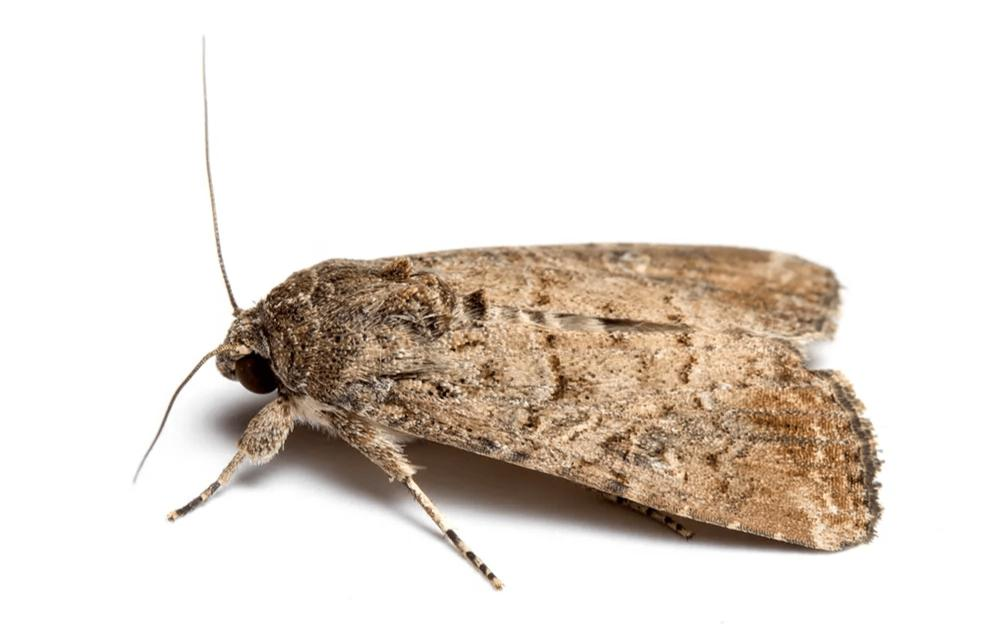army worm adult: (111, 19, 898, 616)
